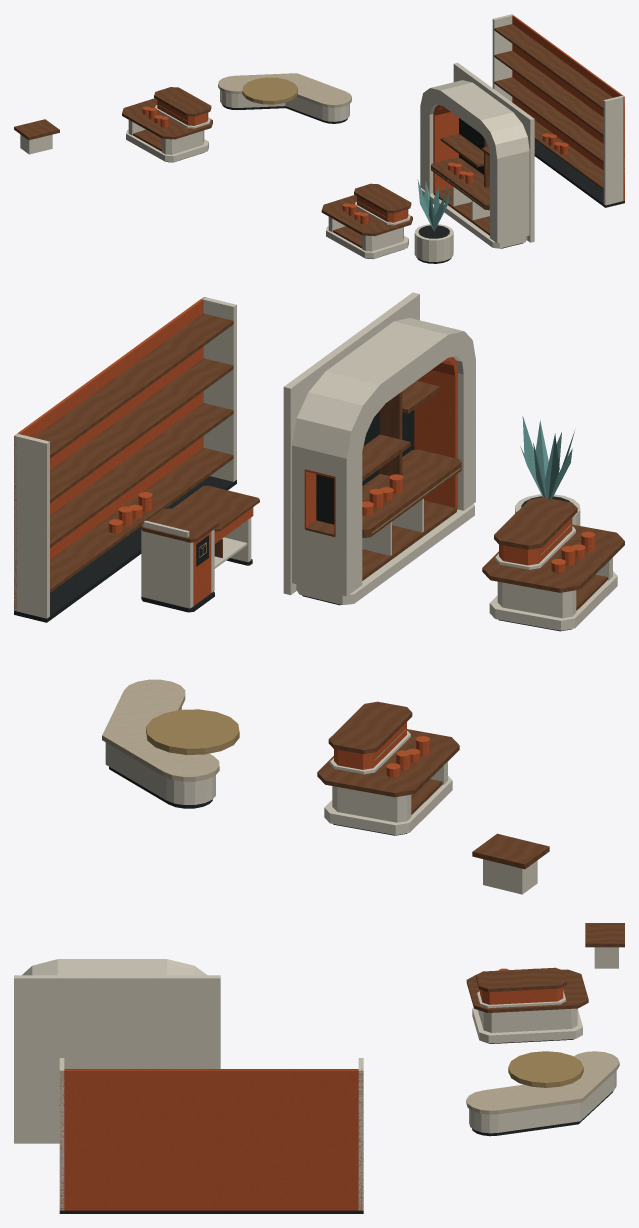
File: SHOP_D09_P72_F132__fitout.glb
The picture shows the model from 3 angles, top to bottom: view 1: azimuth 30°, elevation 25°; view 2: azimuth 150°, elevation 25°; view 3: azimuth 270°, elevation 25°; orthographic projection. The views are drawn at different scales.
Visible parts, largest first — view 1: SHOP_D09_P72_F132__fitout__ivory_enamel, SHOP_D09_P72_F132__fitout__warm_walnut, SHOP_D09_P72_F132__fitout__retail_terracotta_enamel, SHOP_D09_P72_F132__fitout__dark_rubber, SHOP_D09_P72_F132__fitout__oatmeal_weave, SHOP_D09_P72_F132__fitout__champagne_metal, SHOP_D09_P72_F132__fitout__quiet_teal; view 2: SHOP_D09_P72_F132__fitout__ivory_enamel, SHOP_D09_P72_F132__fitout__warm_walnut, SHOP_D09_P72_F132__fitout__retail_terracotta_enamel, SHOP_D09_P72_F132__fitout__dark_rubber, SHOP_D09_P72_F132__fitout__oatmeal_weave, SHOP_D09_P72_F132__fitout__champagne_metal, SHOP_D09_P72_F132__fitout__quiet_teal; view 3: SHOP_D09_P72_F132__fitout__retail_terracotta_enamel, SHOP_D09_P72_F132__fitout__ivory_enamel, SHOP_D09_P72_F132__fitout__warm_walnut, SHOP_D09_P72_F132__fitout__oatmeal_weave, SHOP_D09_P72_F132__fitout__champagne_metal, SHOP_D09_P72_F132__fitout__dark_rubber.
Part boxes in pixels (x1,y1,x2,y2): SHOP_D09_P72_F132__fitout__ivory_enamel: [20, 14, 624, 261]; SHOP_D09_P72_F132__fitout__warm_walnut: [14, 24, 612, 248]; SHOP_D09_P72_F132__fitout__retail_terracotta_enamel: [142, 14, 624, 224]; SHOP_D09_P72_F132__fitout__dark_rubber: [166, 104, 624, 263]; SHOP_D09_P72_F132__fitout__oatmeal_weave: [218, 73, 351, 107]; SHOP_D09_P72_F132__fitout__champagne_metal: [158, 77, 484, 217]; SHOP_D09_P72_F132__fitout__quiet_teal: [417, 179, 450, 231]; SHOP_D09_P72_F132__fitout__ivory_enamel: [14, 292, 617, 894]; SHOP_D09_P72_F132__fitout__warm_walnut: [34, 313, 624, 869]; SHOP_D09_P72_F132__fitout__retail_terracotta_enamel: [14, 297, 595, 777]; SHOP_D09_P72_F132__fitout__dark_rubber: [14, 410, 571, 835]; SHOP_D09_P72_F132__fitout__oatmeal_weave: [102, 679, 219, 781]; SHOP_D09_P72_F132__fitout__champagne_metal: [146, 468, 571, 760]; SHOP_D09_P72_F132__fitout__quiet_teal: [520, 416, 574, 498]; SHOP_D09_P72_F132__fitout__retail_terracotta_enamel: [59, 968, 563, 1210]; SHOP_D09_P72_F132__fitout__ivory_enamel: [14, 947, 618, 1210]; SHOP_D09_P72_F132__fitout__warm_walnut: [64, 923, 624, 1069]; SHOP_D09_P72_F132__fitout__oatmeal_weave: [466, 1051, 619, 1114]; SHOP_D09_P72_F132__fitout__champagne_metal: [508, 1051, 583, 1087]; SHOP_D09_P72_F132__fitout__dark_rubber: [59, 1039, 613, 1213].
Bounding box in the file's own units: 10.25 × 3 × 10.05.
Materials: 7 (6 with a texture image).
